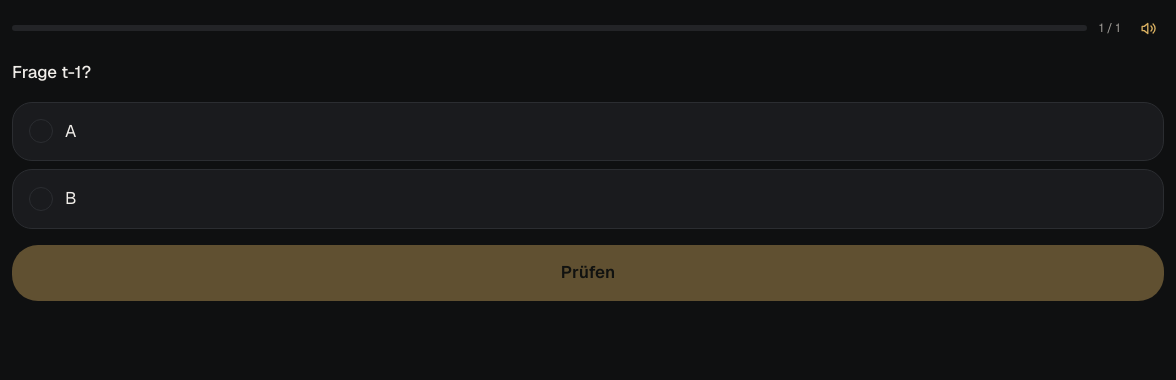
Test: Abschlussbildschirm › nennt die geschaffte Menge und den Bezug zum Gesamtstoff
Click the button "A" at (41, 131), box [12, 102, 1164, 161]
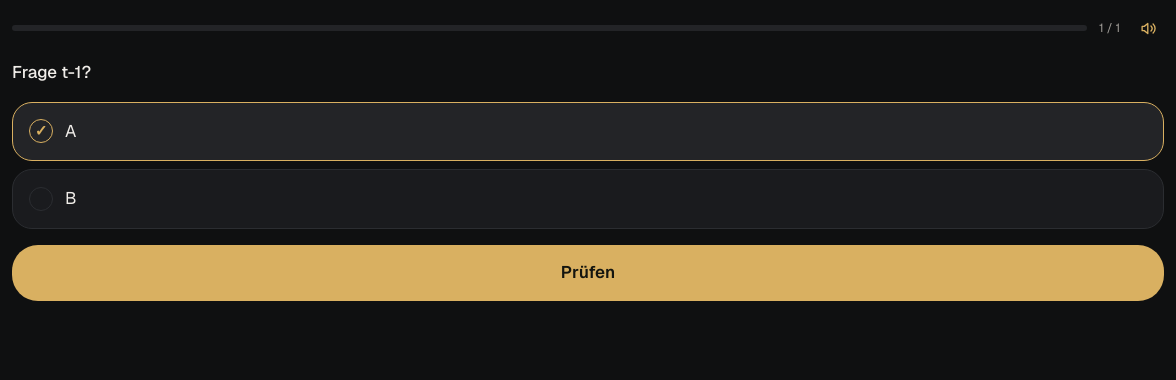
Click the button "Prüfen" at (588, 272), box [12, 244, 1164, 300]
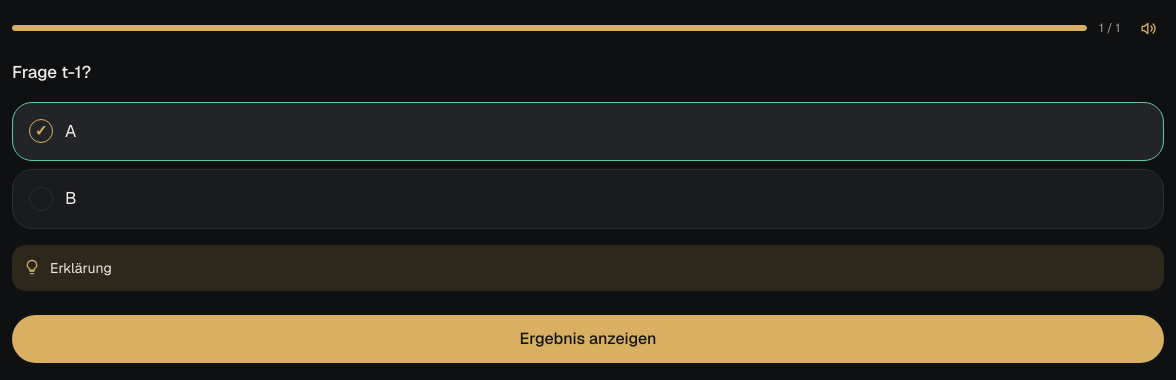
Click the button "Ergebnis anzeigen" at (588, 339), box [12, 315, 1164, 363]
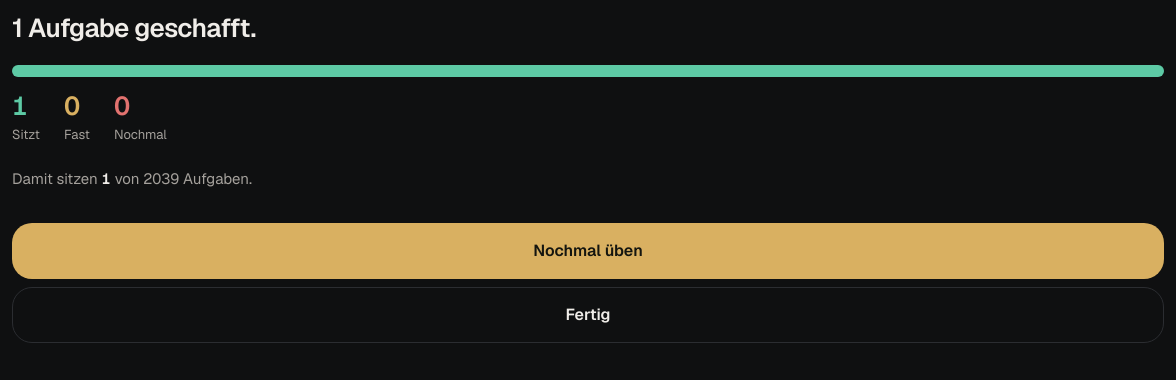
Expected: the heading "1 Aufgabe geschafft." is shown, [12, 11, 256, 45]
Expected: the text "Damit sitzen 1 von 2039 Aufgaben." is shown, [12, 169, 252, 188]
